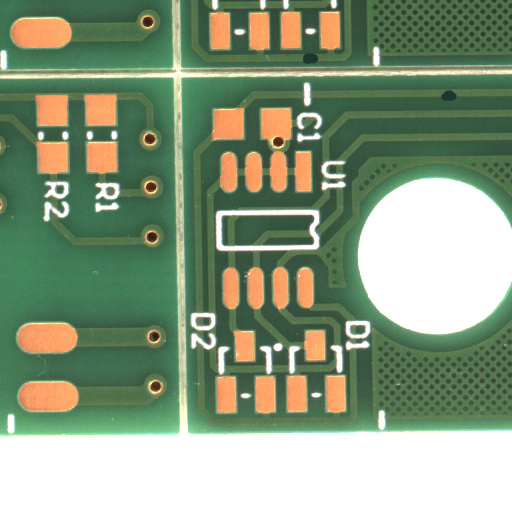Mouse_bite: (448, 95, 466, 108), (310, 58, 327, 71)
